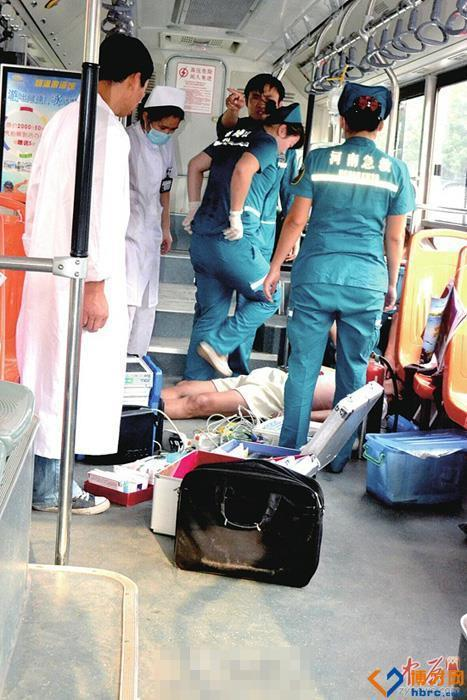Fall-Detected: (138, 344, 371, 443)
